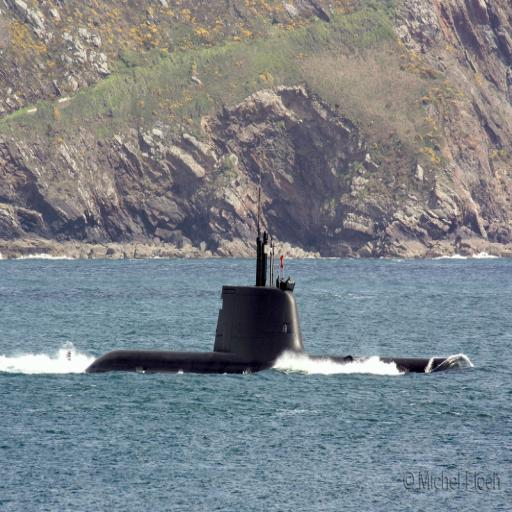submarine: (87, 188, 464, 373)
